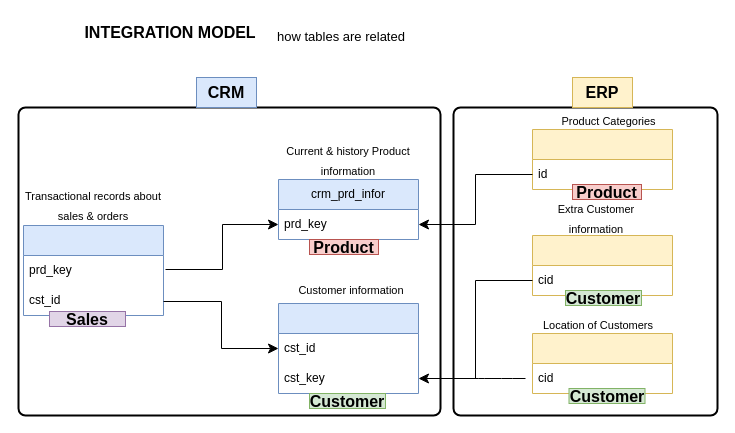
Some shapes in this 735 by 433 pixel diagram are drawn without their labels. The box of each missing label's shape, as (x1, y1, x2, y2) in pixels:
crm_cust_infor: (278, 302, 418, 394)
crm_sales_details: (22, 224, 164, 316)
erp_cust_az12: (532, 234, 672, 296)
erp_loc_a101: (532, 332, 672, 394)
erp_px_cat_g1v2: (532, 128, 672, 190)
